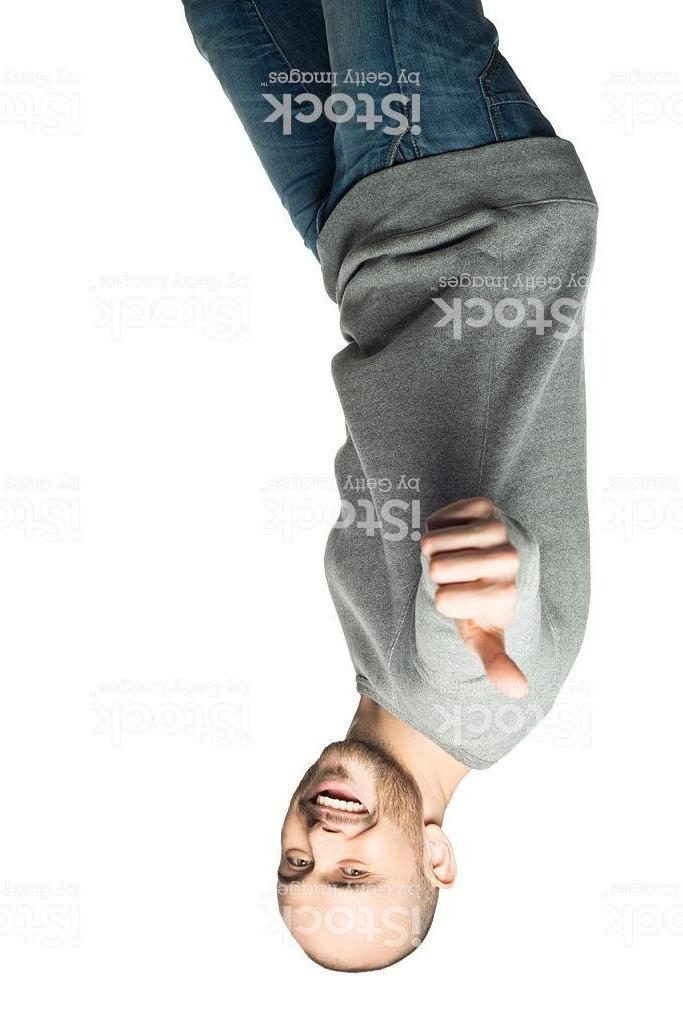thumbsdown: (416, 494, 533, 701)
